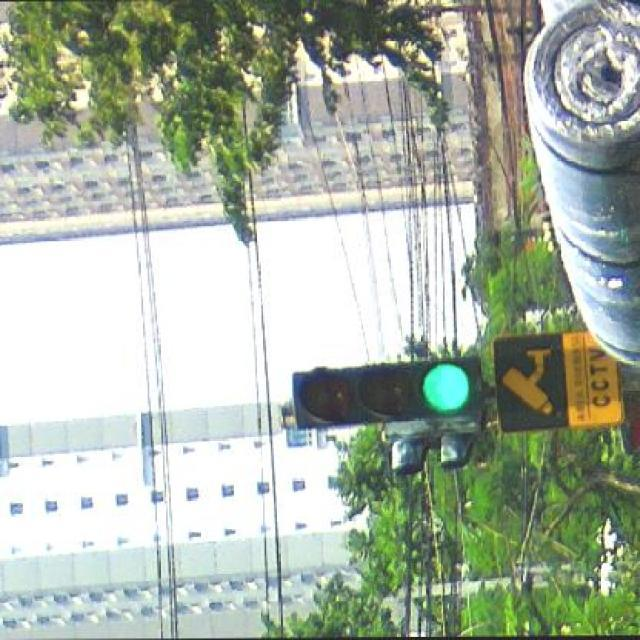traffic light: (291, 357, 482, 431), (391, 438, 429, 476)
